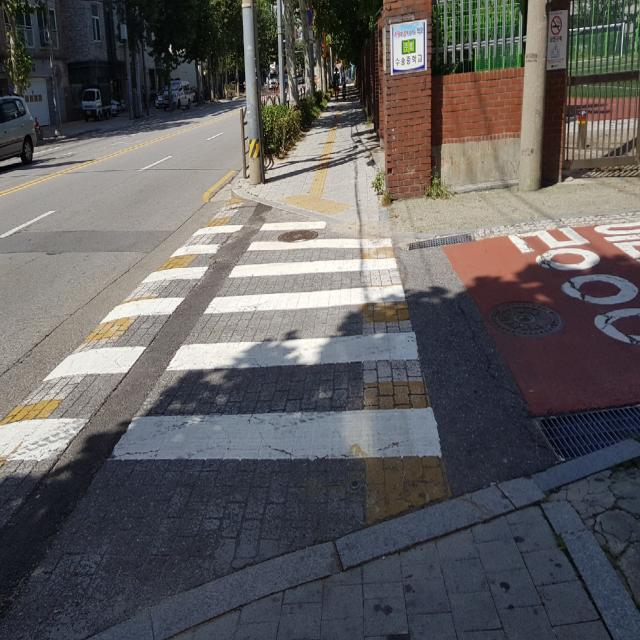횡단보도: (0, 218, 444, 466)
